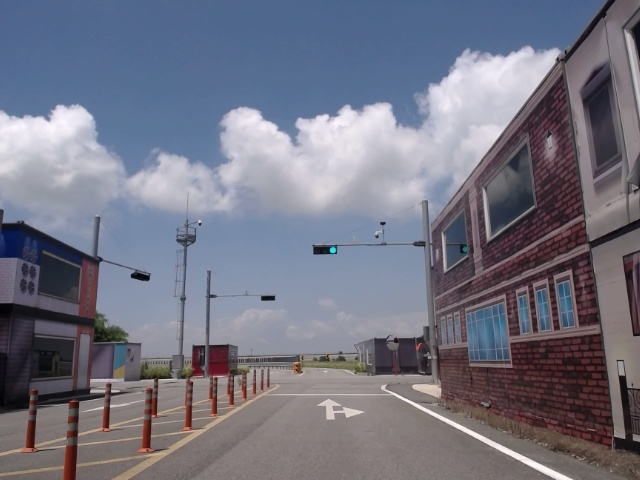green_3: (313, 247, 336, 254)
